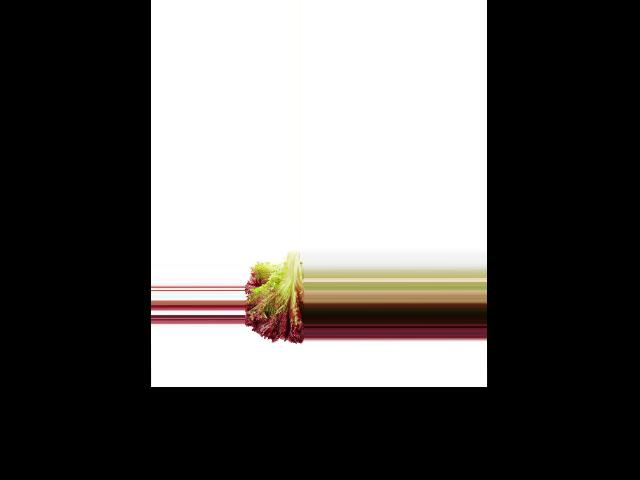lettuce: (246, 248, 304, 348)
